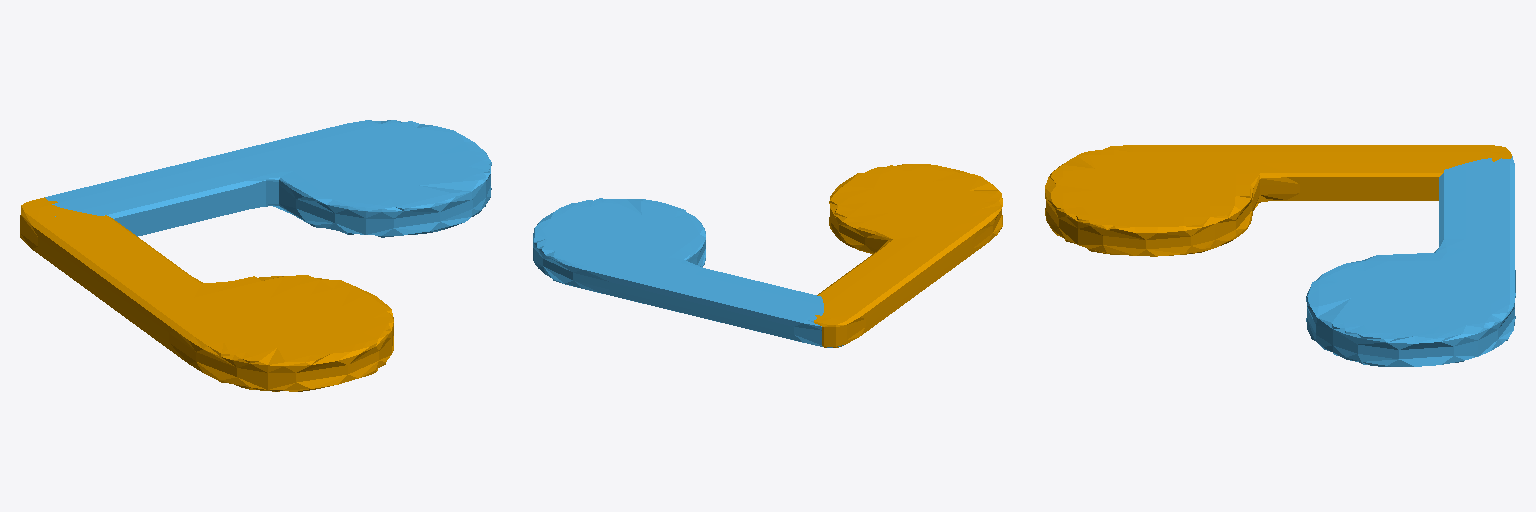
The robot description file, URDF, robot "lock":
<?xml version="1.0" ?>
<robot name="lock" xmlns:xacro="http://www.ros.org/wiki/xacro">
  <link name="l1">
    <visual>
      <origin rpy="0 0 0" xyz="0 0 0"/>
      <geometry>
        <mesh filename="package://2Dsnap-lock/p1.stl"/>
      </geometry>
    </visual>
    <collision>
      <origin rpy="0 0 0" xyz="0 0 0"/>
      <geometry>
        <mesh filename="package://2Dsnap-lock/p1-vhacd.obj"/>
      </geometry>
    </collision>
  </link>
  <link name="l2">
    <visual>
      <origin rpy="0 0 0" xyz="0 0 0"/>
      <geometry>
        <mesh filename="package://2Dsnap-lock/p2.stl"/>
      </geometry>
    </visual>
    <collision>
      <origin rpy="0 0 0" xyz="0 0 0"/>
      <geometry>
        <mesh filename="package://2Dsnap-lock/p2-vhacd.obj"/>
      </geometry>
    </collision>
  </link>

  <joint name="joint1" type="revolute">
    <parent link="l1"/>
    <child link="l2"/>
    <origin rpy="0 0 0" xyz="0 0 0"/>
    <axis xyz="0 0 1"/>
    <limit effort="20" lower="-0.5" upper="0" velocity="0.2"/>
  </joint>

</robot>

--- Facts derived from the render (not from the file) ---
3 views of the same robot in one strip: view 1: azimuth 30°, elevation 25°; view 2: azimuth 150°, elevation 25°; view 3: azimuth 270°, elevation 25° (orthographic).
Robot: lock — 2 links, 1 joints (1 revolute); root link l1; default pose: every joint at zero.
Visible links, largest first — view 1: l1, l2; view 2: l2, l1; view 3: l1, l2.
Boxes of the visible links, x1=… form: l1: x1=20, y1=197, x2=393, y2=391; l2: x1=45, y1=120, x2=491, y2=237; l2: x1=533, y1=198, x2=843, y2=347; l1: x1=814, y1=164, x2=1002, y2=347; l1: x1=1045, y1=145, x2=1511, y2=256; l2: x1=1306, y1=156, x2=1515, y2=366.
Bounding box of the posed robot: 5.89 × 5.9 × 0.4 m (x, y, z).
Meshes: 2 distinct files referenced, 2 mesh visuals loaded (2 binary STL).